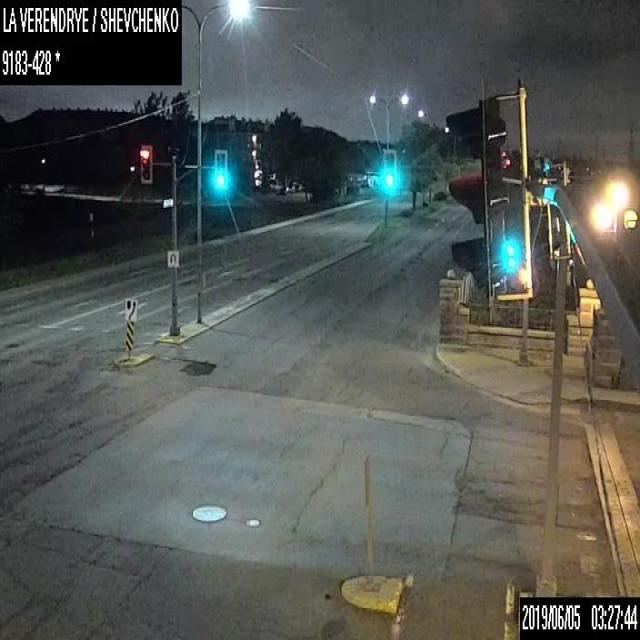vehicle: (276, 185, 288, 194), (287, 184, 295, 192), (295, 184, 302, 191)
